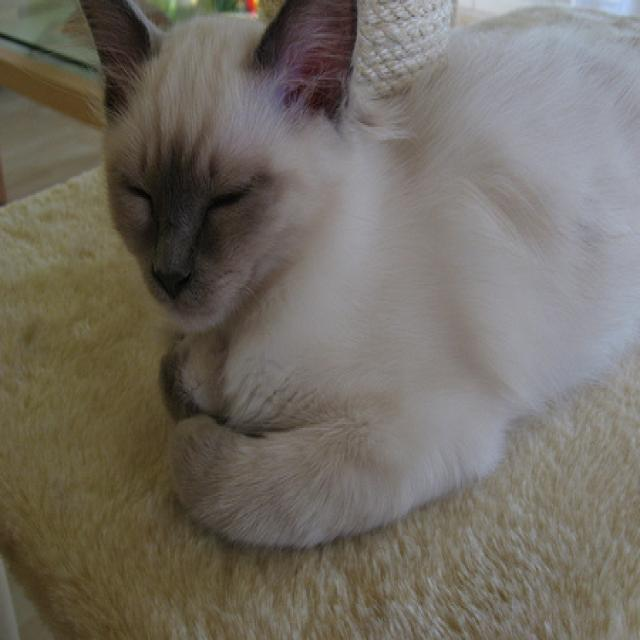Birman: (69, 0, 640, 547)
